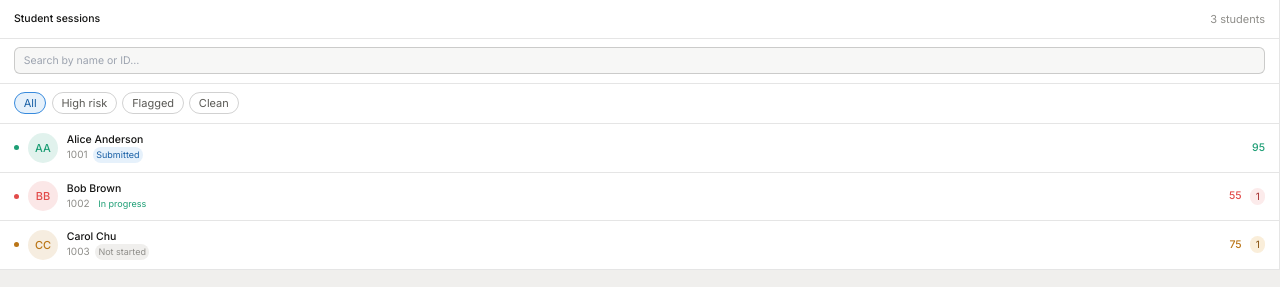
Test case: StudentSidebar › filters by search text on name or id
The width and height of the screenshot is (1280, 287).
Type "bob" into the field with placeholder "Search by name or ID…" at point(640, 61), box [14,47,1265,74]
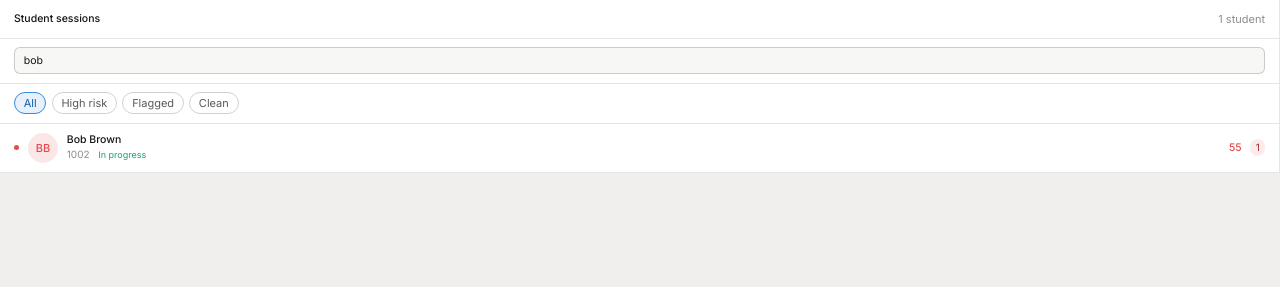
expect the text "Bob Brown" is shown: met, box [67,133,121,146]
expect the button "Alice Anderson" is gone: met
